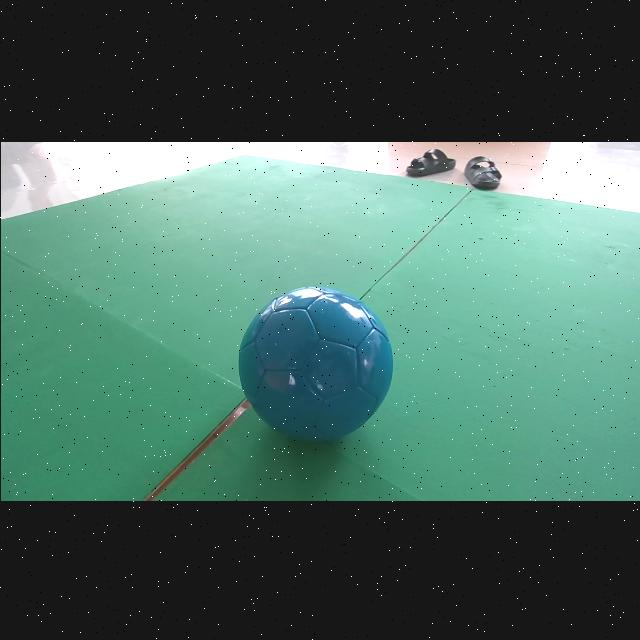B: (238, 286, 391, 439)
